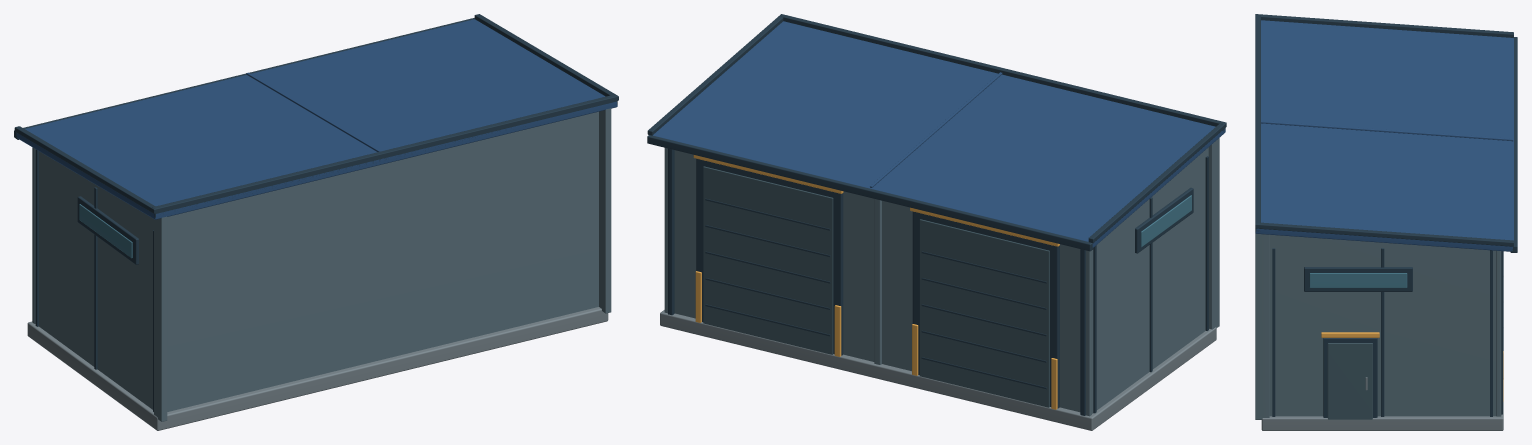
Rendered from d09_warehouses_03.glb.
3 renders of one model, left to right at view 1: azimuth 30°, elevation 25°; view 2: azimuth 150°, elevation 25°; view 3: azimuth 270°, elevation 25°, orthographic. The views are drawn at different scales.
Visible parts, largest first — view 1: D09Warehouses03_Mesh; view 2: D09Warehouses03_Mesh; view 3: D09Warehouses03_Mesh.
Boxes of the visible parts, x1,y1,x2,y2 form: D09Warehouses03_Mesh: (14,14,618,430); D09Warehouses03_Mesh: (647,14,1226,430); D09Warehouses03_Mesh: (1255,14,1517,430).
Bounding box in the file's own units: 12.36 × 5.75 × 6.51.
